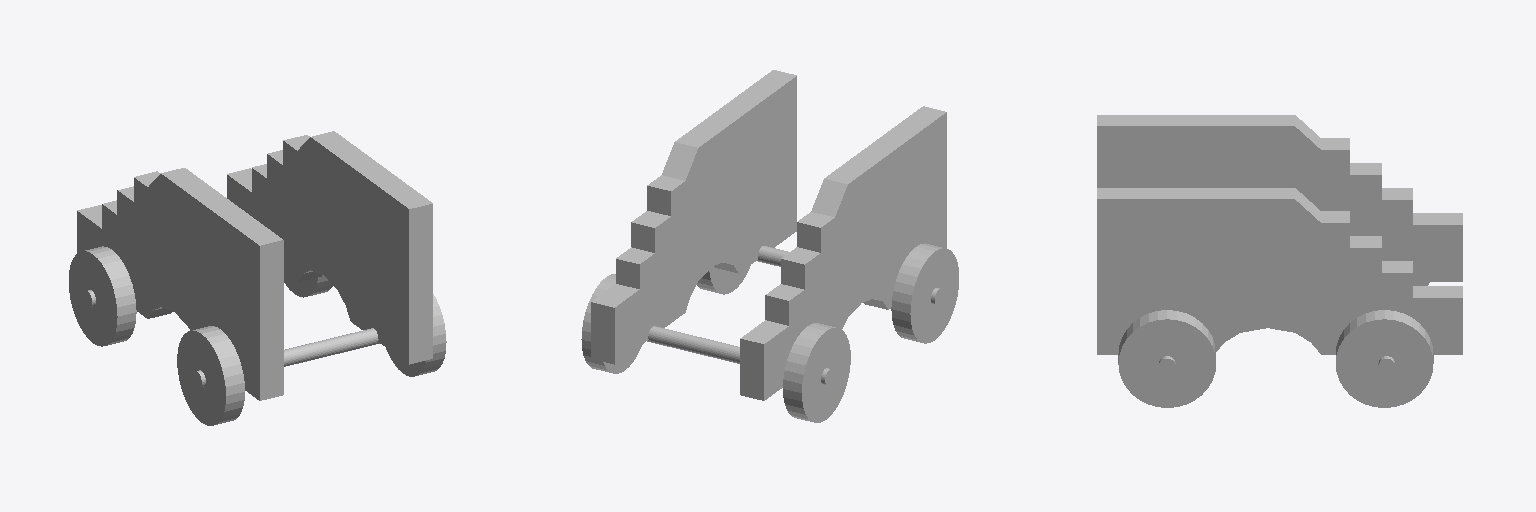
Rendered from gun_bottom.obj.
3 renders of one model, left to right at view 1: azimuth 30°, elevation 25°; view 2: azimuth 150°, elevation 25°; view 3: azimuth 270°, elevation 25°, orthographic.
Visible parts, largest first — view 1: Cube.001, Cylinder.004, Cylinder.002, Cylinder.007, Cylinder.005, Cylinder.003; view 2: Cube.001, Cylinder.002, Cylinder.004, Cylinder.006, Cylinder.003, Cylinder.005, Cylinder.007; view 3: Cube.001, Cylinder.003, Cylinder.005.
Boxes of the visible parts, x1,y1,x2,y2 form: Cube.001: [77, 131, 432, 400]; Cylinder.004: [177, 326, 244, 425]; Cylinder.002: [69, 246, 136, 346]; Cylinder.007: [193, 328, 379, 387]; Cylinder.005: [386, 294, 446, 376]; Cylinder.003: [284, 273, 332, 297]; Cube.001: [591, 70, 946, 400]; Cylinder.002: [783, 323, 850, 422]; Cylinder.004: [891, 243, 958, 343]; Cylinder.006: [647, 326, 833, 385]; Cylinder.003: [581, 274, 642, 373]; Cylinder.005: [697, 265, 750, 294]; Cylinder.007: [757, 246, 942, 304]; Cube.001: [1097, 115, 1462, 354]; Cylinder.003: [1336, 310, 1433, 407]; Cylinder.005: [1118, 310, 1215, 407].
Size of the model in its own units: 3.09 by 2.54 by 4.26.